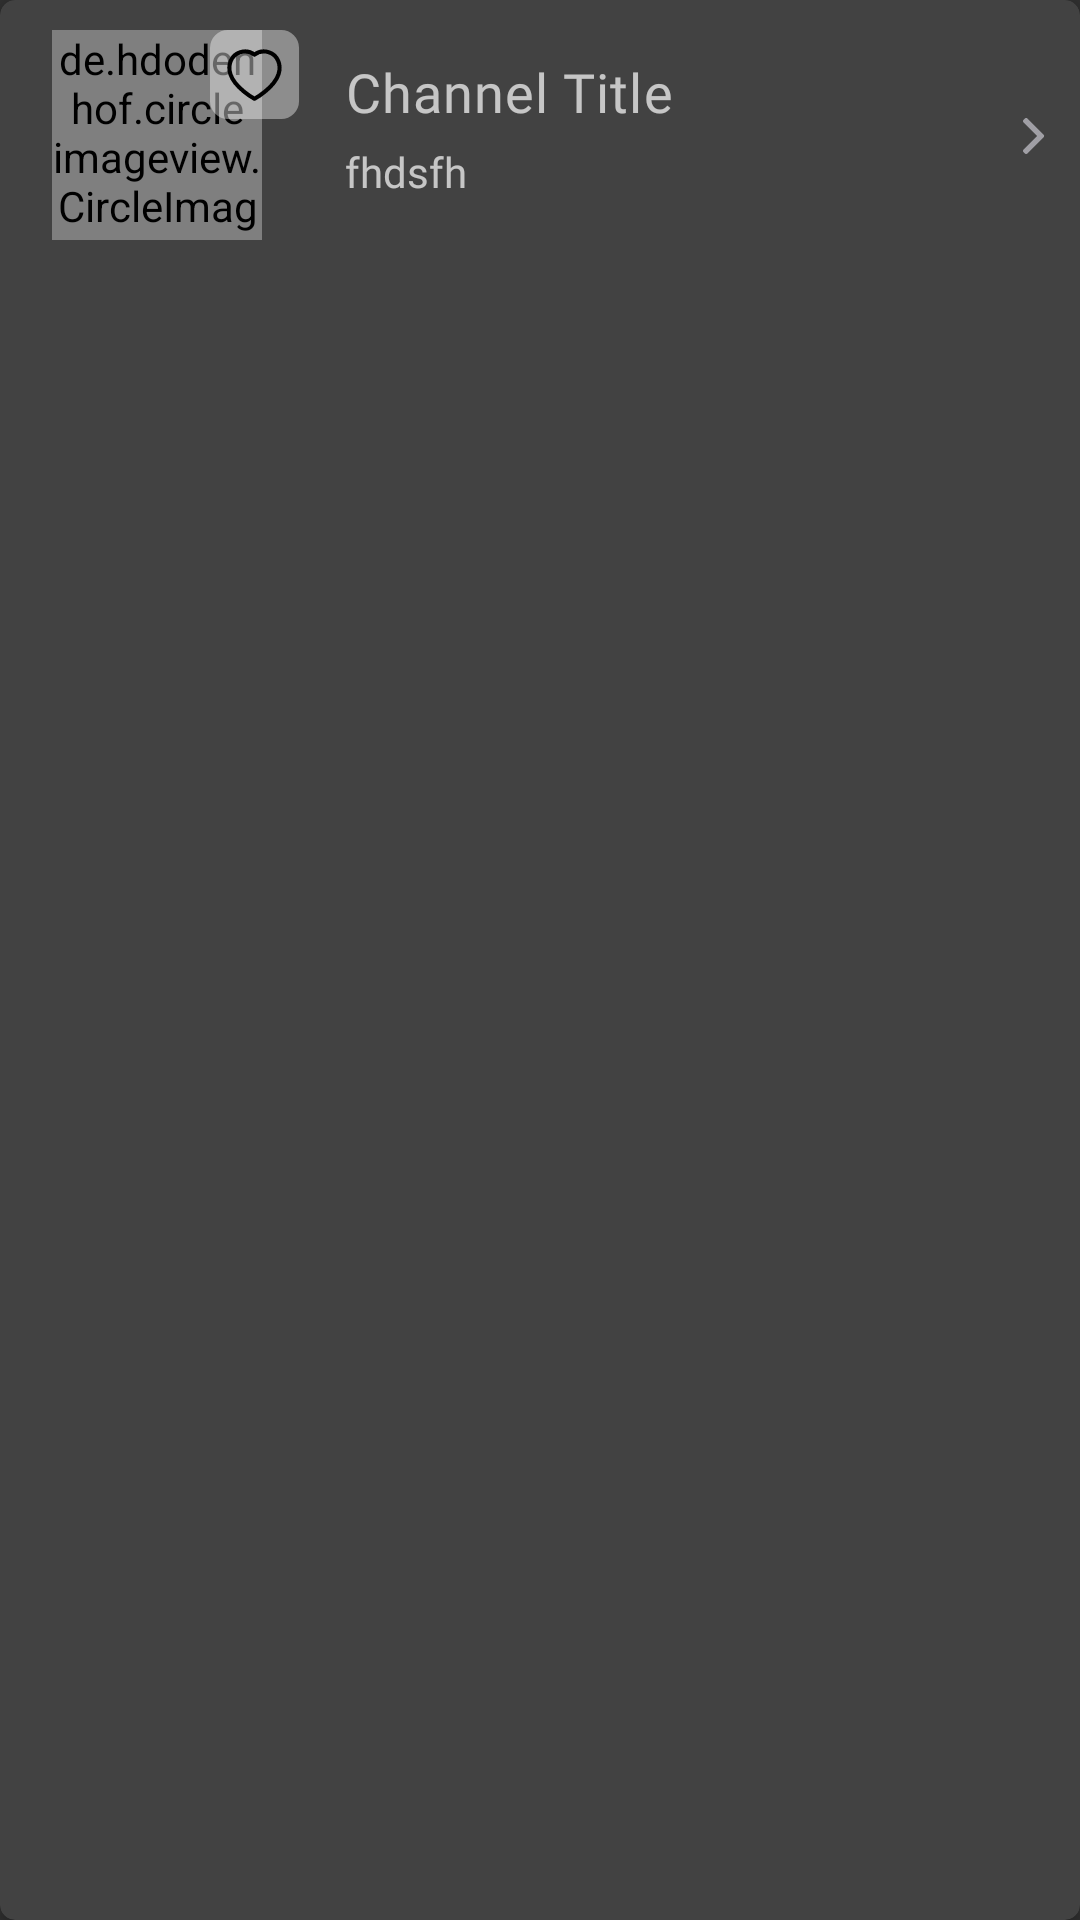

Icon click points for this 1080w x 1920h phone screenshot, format (x=x, y=y):
blank fav: (x=255, y=75)
